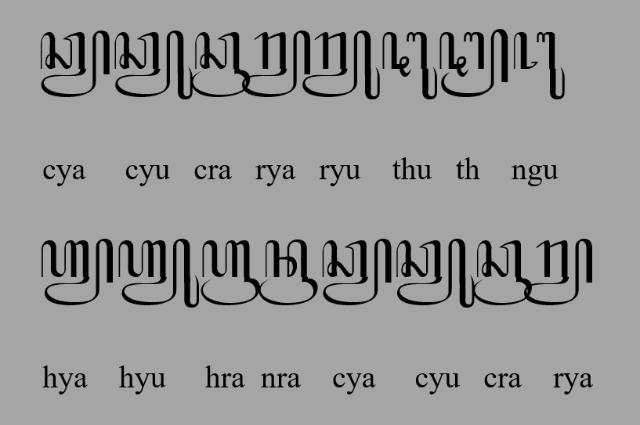-th: (439, 27, 509, 96)
cr: (190, 32, 250, 98), (472, 240, 532, 306)
cy: (40, 29, 110, 97), (322, 238, 392, 306)
cyu: (114, 30, 194, 100), (396, 238, 474, 308)
hr: (201, 239, 261, 306)
hy: (41, 238, 114, 306)
hyu: (118, 238, 200, 309)
ngu: (512, 31, 566, 101)
nr: (258, 240, 318, 306)
ry: (524, 237, 594, 307), (242, 29, 310, 96)
ryu: (302, 28, 381, 100)
thu: (382, 32, 438, 100)
